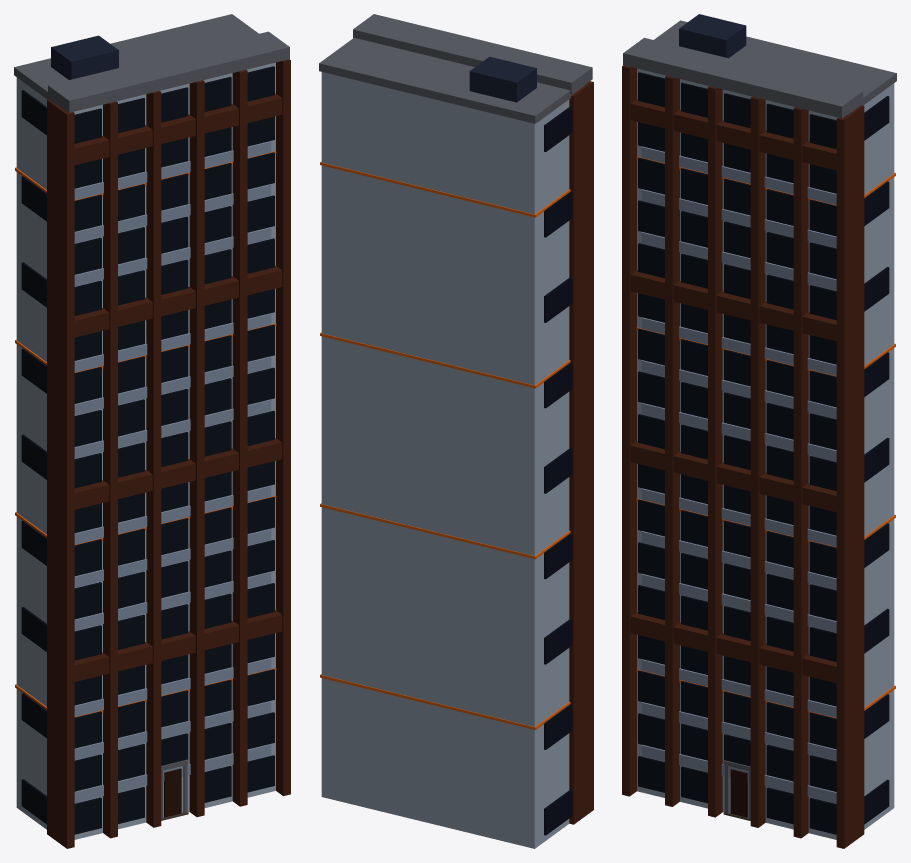
The model's file is highrise5.obj.
The picture shows the model from 3 angles, left to right: view 1: azimuth 30°, elevation 25°; view 2: azimuth 150°, elevation 25°; view 3: azimuth 330°, elevation 25°; orthographic projection.
Parts seen in each view (by area): view 1: frame-piers, frame-glazing, core, infill-spandrels, belt-courses, caps, end-glazing, roof-plant, window-lights, entrance; view 2: core, frame-piers, caps, end-glazing, window-lights, roof-plant; view 3: frame-piers, frame-glazing, core, infill-spandrels, belt-courses, caps, end-glazing, roof-plant, window-lights, entrance.
Part boxes in pixels (x1,y1,x2,y2): frame-piers: [47, 59, 290, 848]; frame-glazing: [74, 66, 274, 834]; core: [16, 62, 275, 839]; infill-spandrels: [74, 141, 271, 802]; belt-courses: [74, 93, 282, 681]; caps: [14, 14, 289, 112]; end-glazing: [21, 90, 46, 824]; roof-plant: [51, 35, 118, 79]; window-lights: [15, 151, 276, 717]; entrance: [164, 768, 181, 817]; core: [321, 72, 569, 848]; frame-piers: [569, 81, 593, 824]; caps: [319, 14, 592, 123]; end-glazing: [544, 106, 572, 835]; window-lights: [320, 161, 570, 730]; roof-plant: [469, 56, 536, 102]; frame-piers: [622, 65, 864, 848]; frame-glazing: [638, 72, 836, 834]; core: [637, 68, 894, 839]; infill-spandrels: [641, 146, 836, 803]; belt-courses: [630, 99, 836, 683]; caps: [623, 20, 896, 118]; end-glazing: [864, 96, 889, 824]; roof-plant: [679, 14, 746, 58]; window-lights: [636, 156, 895, 718]; entrance: [730, 769, 747, 817].
Size of the model in its own units: 7.04 by 22.84 by 3.08.
